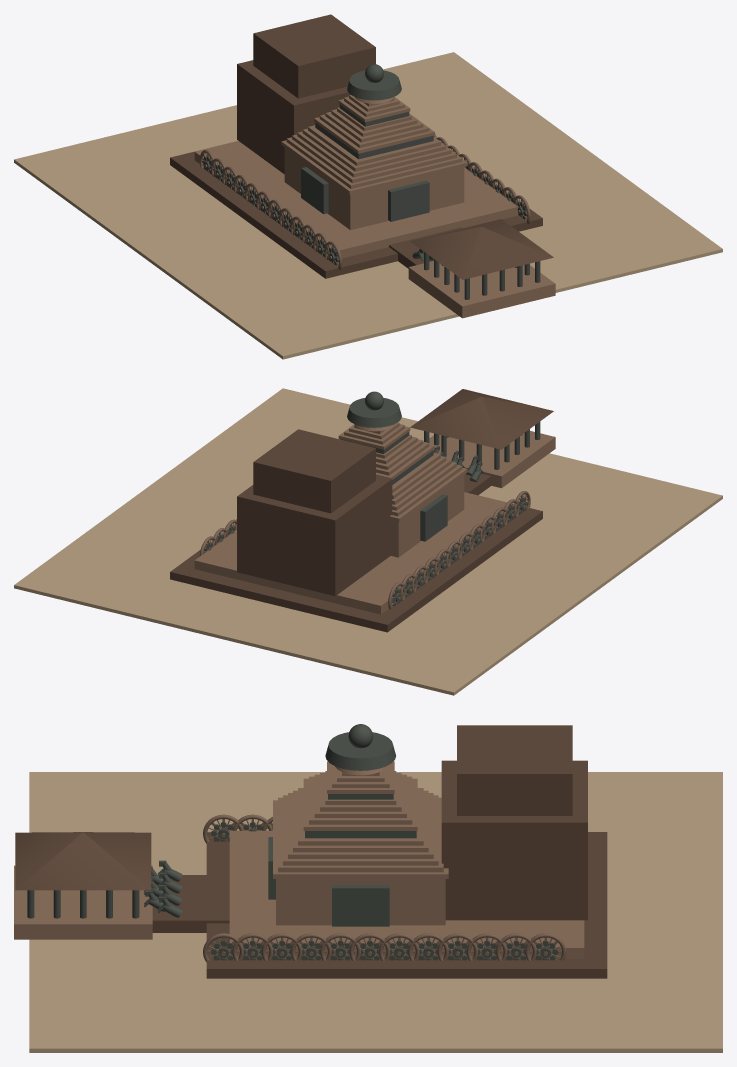
Rendered from konark_sun_temple.glb.
The picture shows the model from 3 angles, top to bottom: view 1: azimuth 30°, elevation 25°; view 2: azimuth 150°, elevation 25°; view 3: azimuth 270°, elevation 25°; orthographic projection. The views are drawn at different scales.
Parts seen in each view (by area): view 1: KonarkTemple, Jagamohana, RuinedVimana; view 2: KonarkTemple, RuinedVimana, Jagamohana; view 3: KonarkTemple, Jagamohana, RuinedVimana.
Boxes of the visible parts, x1=… form: KonarkTemple: x1=14, y1=52, x2=722, y2=359; Jagamohana: x1=281, y1=64, x2=467, y2=230; RuinedVimana: x1=237, y1=14, x2=375, y2=174; KonarkTemple: x1=14, y1=388, x2=722, y2=695; RuinedVimana: x1=237, y1=429, x2=392, y2=596; Jagamohana: x1=338, y1=391, x2=467, y2=557; KonarkTemple: x1=14, y1=772, x2=722, y2=1052; Jagamohana: x1=268, y1=724, x2=448, y2=926; RuinedVimana: x1=441, y1=725, x2=587, y2=920.
Size of the model in its own units: 85 by 27.1 by 92.
